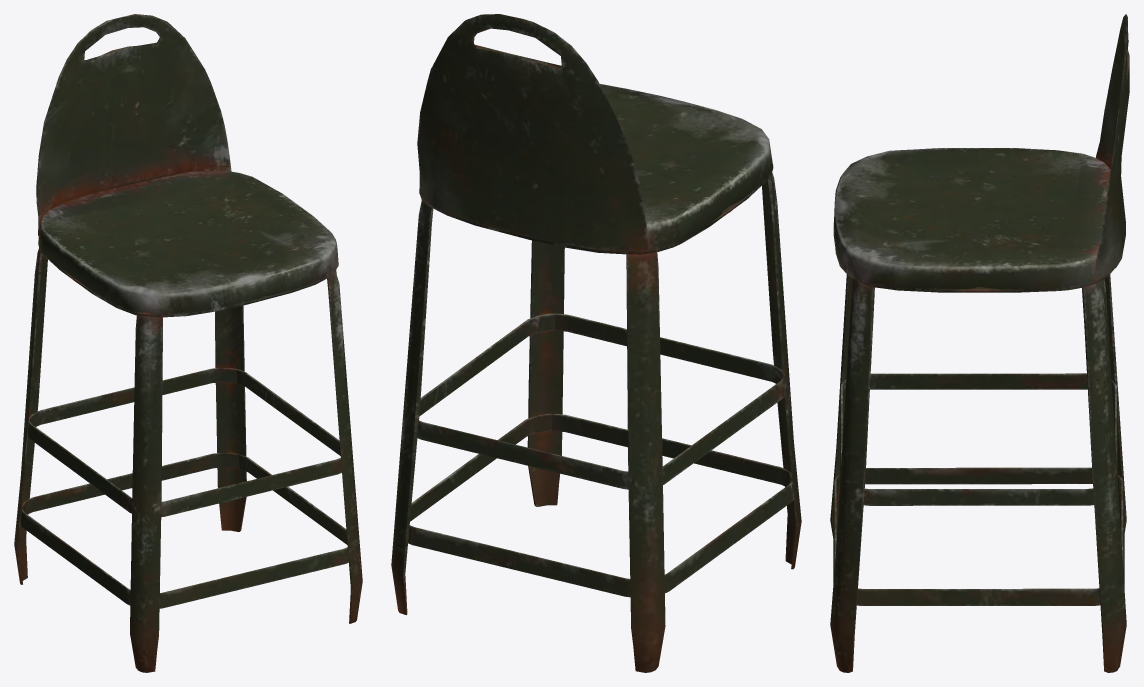
File: metal_stool_03.glb
3 renders of one model, left to right at view 1: azimuth 30°, elevation 25°; view 2: azimuth 150°, elevation 25°; view 3: azimuth 270°, elevation 25°, orthographic. The views are drawn at different scales.
Parts seen in each view (by area): view 1: metal_stool_03; view 2: metal_stool_03; view 3: metal_stool_03.
Part boxes in pixels (bbox=[...]): metal_stool_03: bbox=[14, 14, 362, 672]; metal_stool_03: bbox=[391, 14, 801, 672]; metal_stool_03: bbox=[830, 14, 1129, 672].
Bounding box in the file's own units: 0.4606 × 1.02 × 0.4699.
Materials: 1 (1 with a texture image).
